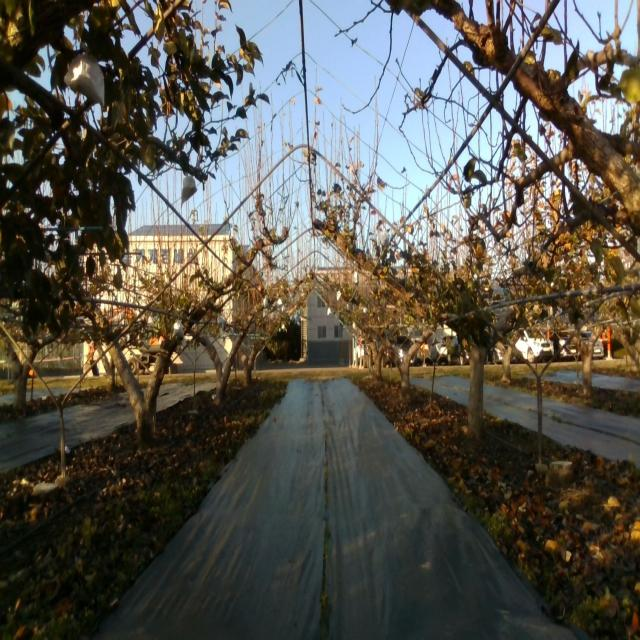pearbags: (62, 51, 106, 108), (181, 177, 197, 203), (172, 319, 184, 338)
